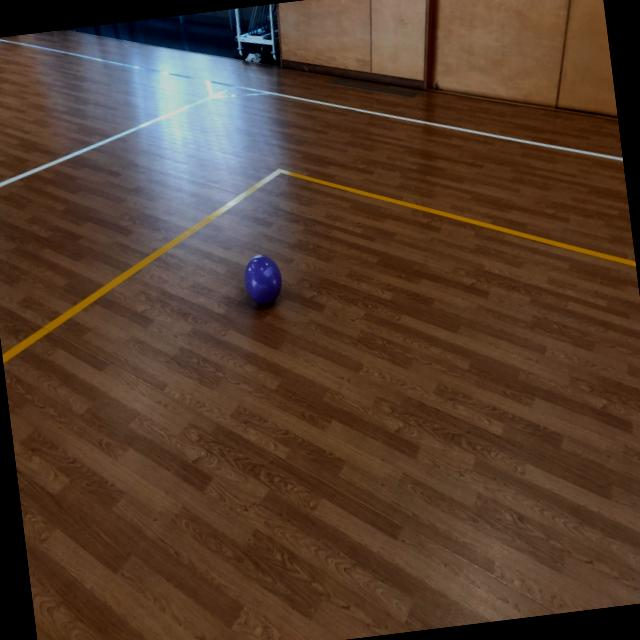purple_ball: (241, 250, 285, 309)
